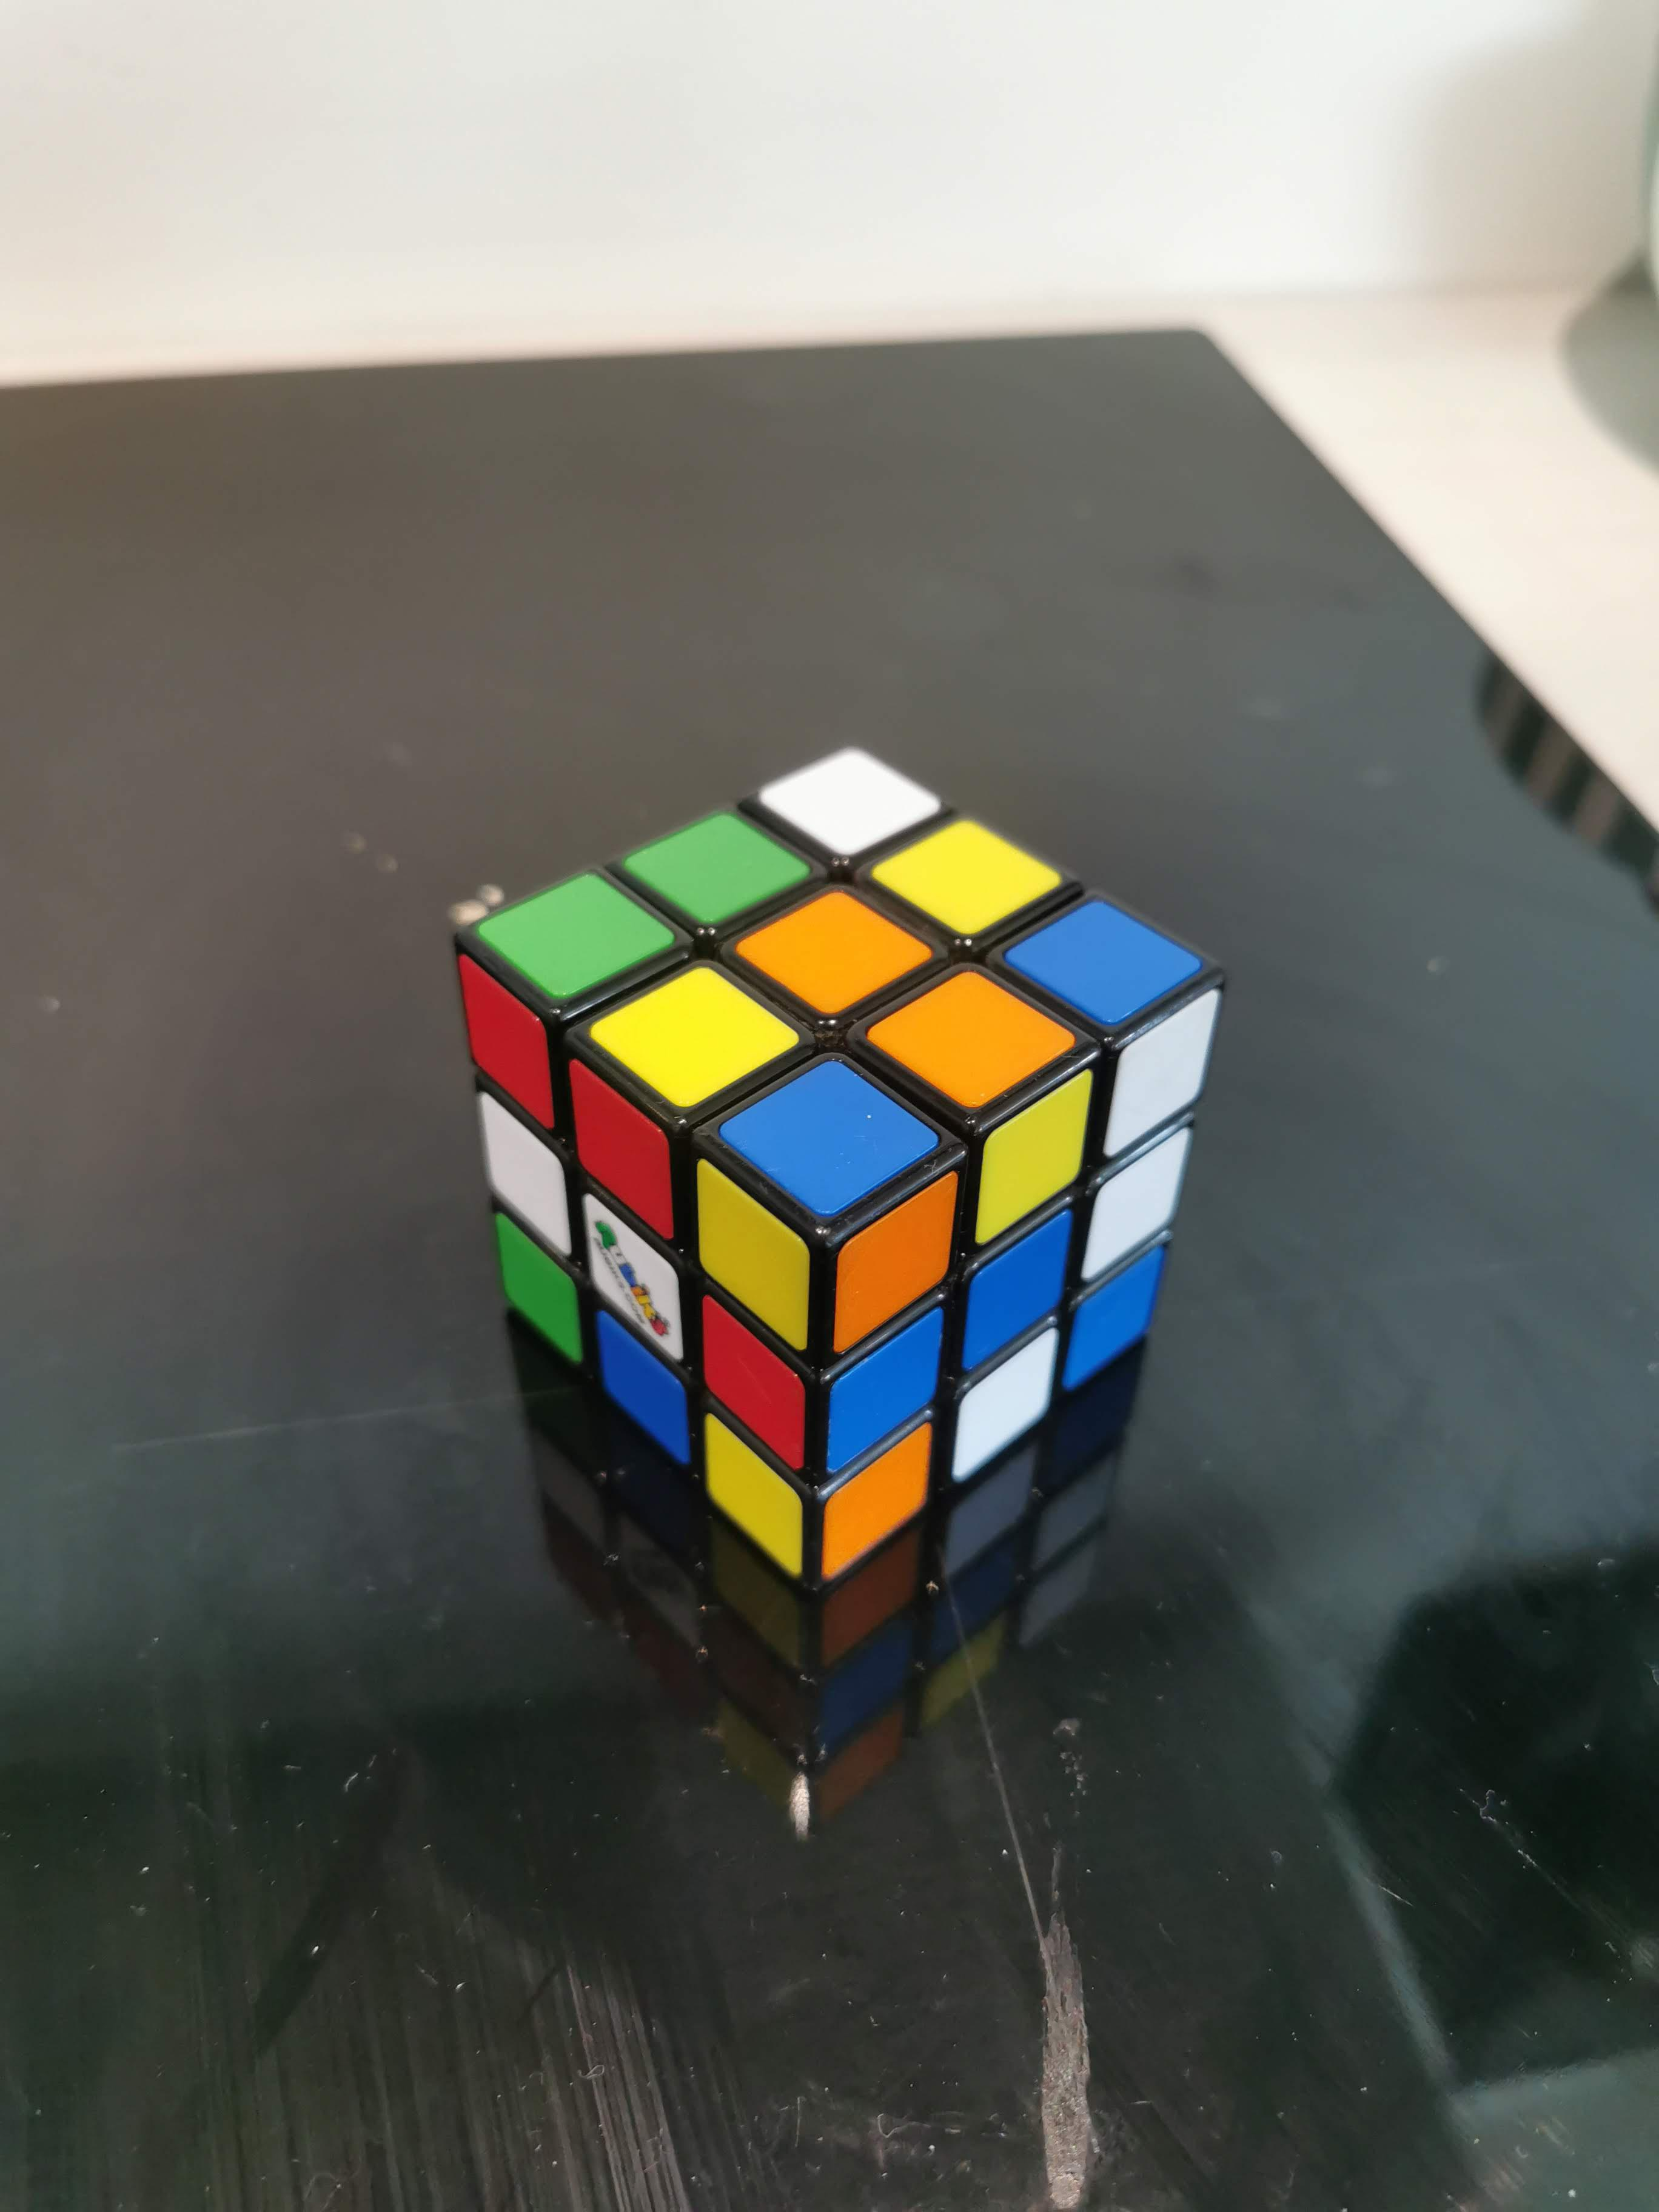cube: (448, 744, 1229, 1601)
